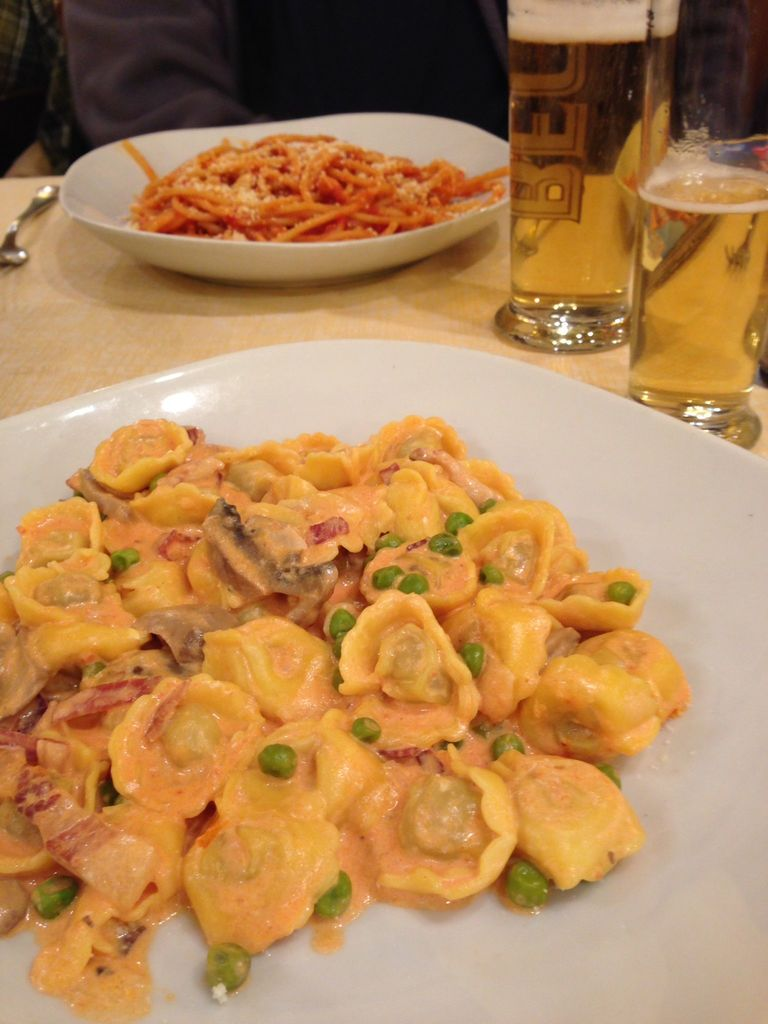pasta: (6, 404, 682, 924), (120, 130, 515, 243)
